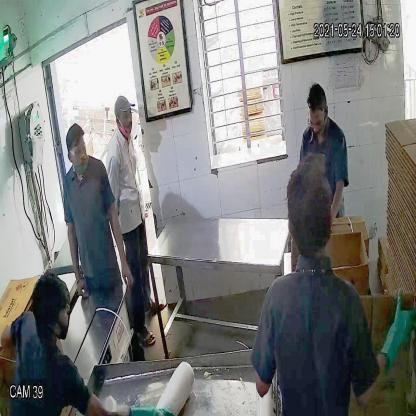goggles: (64, 142, 90, 160)
no_goggles: (115, 109, 134, 125)
